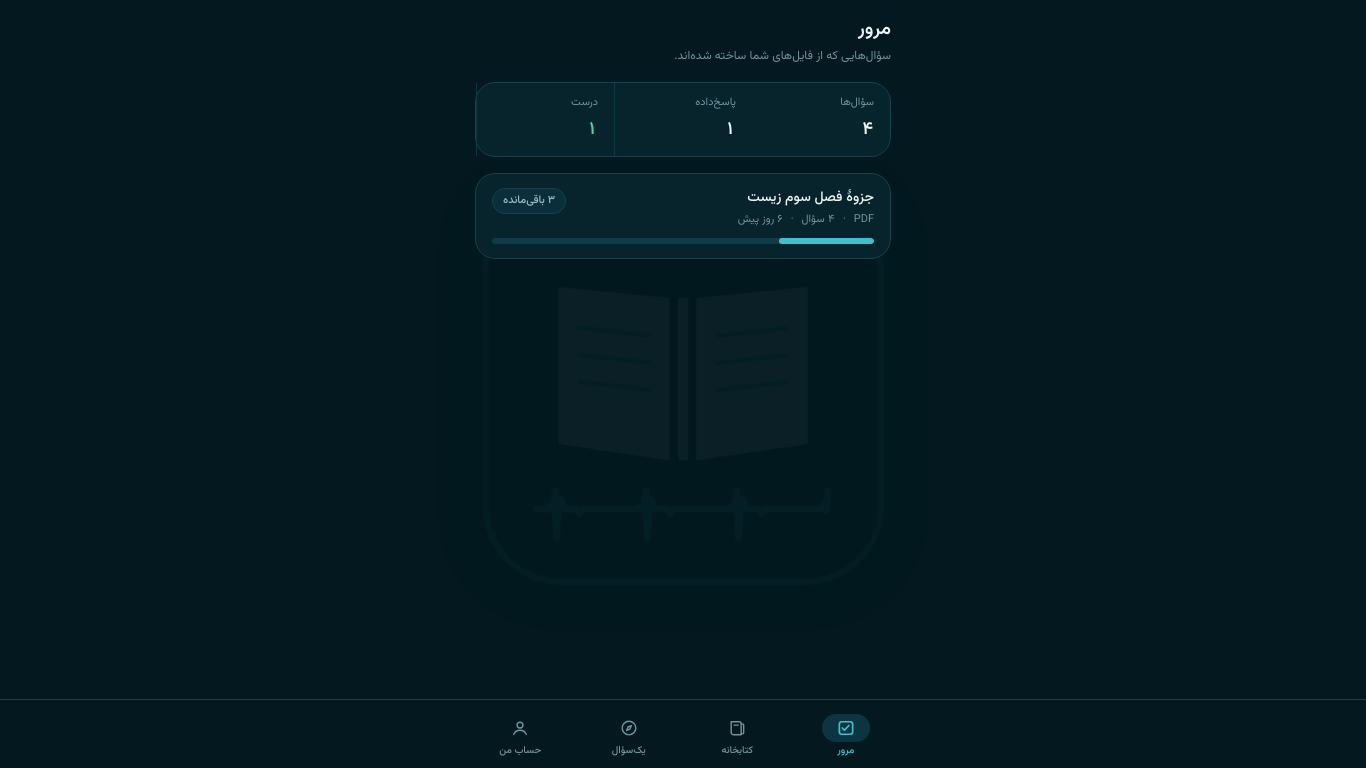
Test: Gamas Mini App shell › answers an explore card and shows the awarded points from the server
Later steps or results of the test are not shown.
Expected: the tab "حساب من" is shown, [467,708,574,762]
What coordinates should you click on to do the following:
click the tab "یک‌سؤال"
I would click on:
 (629, 735)
Its box is [576,708,682,762].
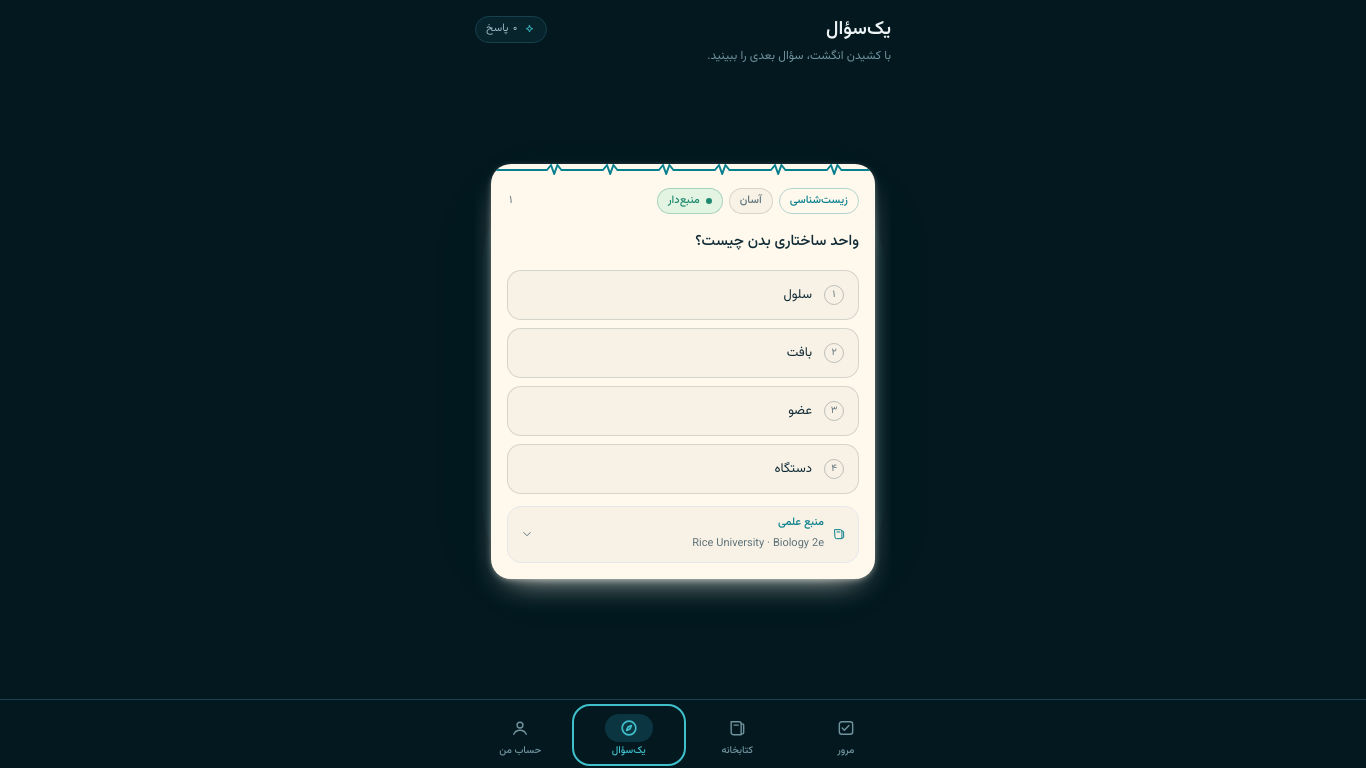
Now the heading "واحد ساختاری بدن چیست؟" is shown, box [695,230,859,253]
What coordinates should you click on to do the following:
click the text "سلول"
I would click on:
 (798, 295)
Its box is [784,285,812,305].
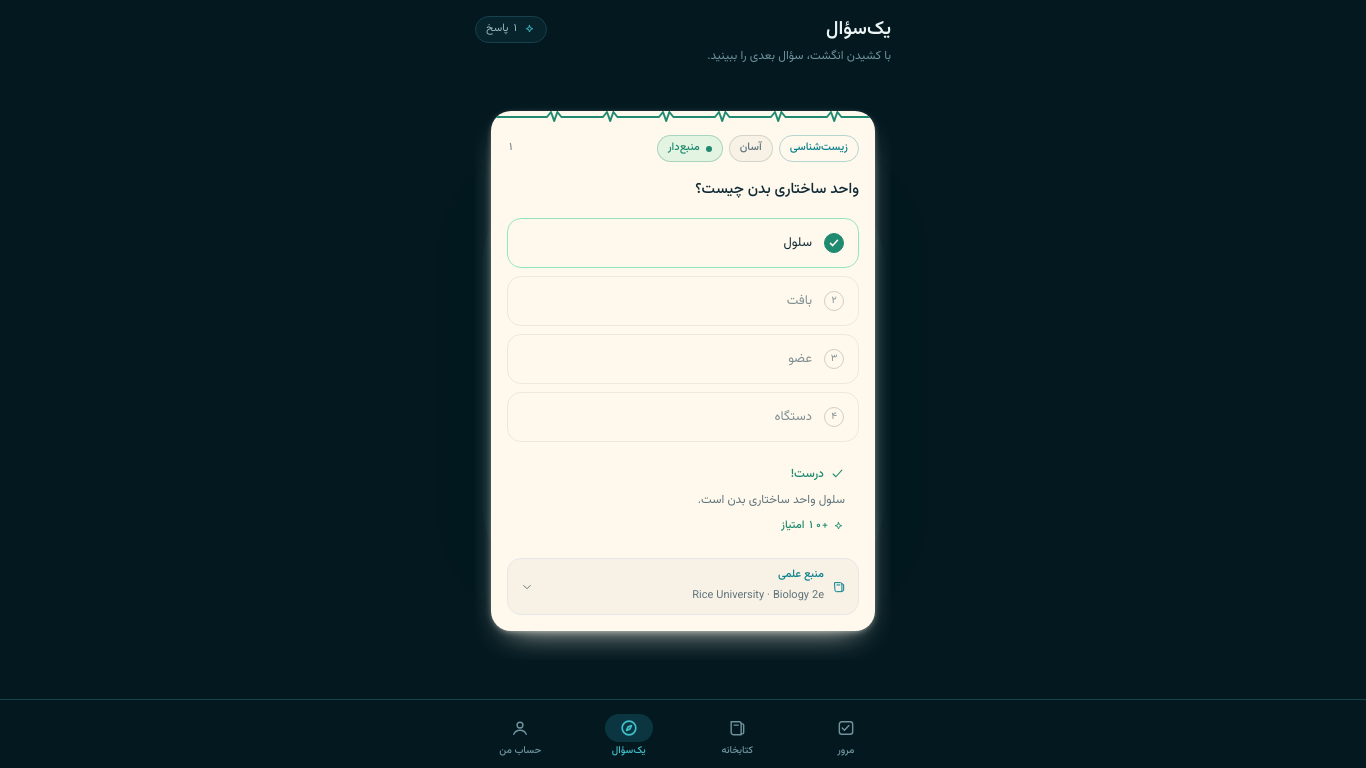
Now the text "درست!" is shown, box [791,465,845,483]
Now the text "+۱۰ امتیاز" is shown, box [781,518,828,534]
